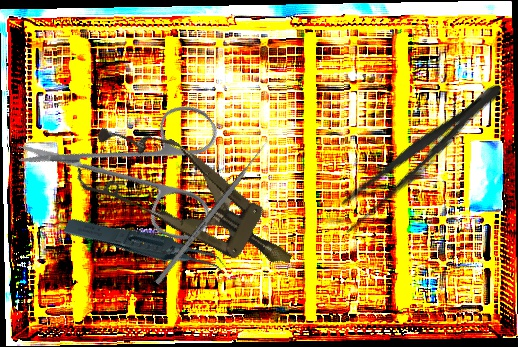Dressing Forceps: (328, 72, 511, 238)
Iris Scissors: (11, 41, 263, 295)
Pusher: (154, 138, 271, 286)
Speculum: (69, 106, 313, 299)
Tissue Forceps: (62, 187, 230, 309)
